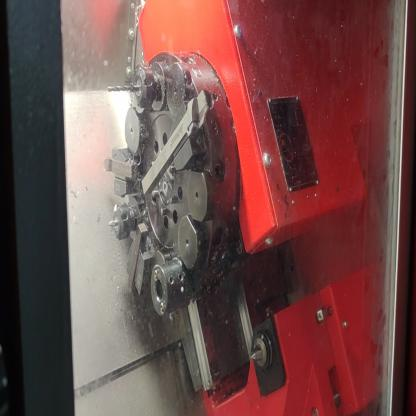bit: (150, 91, 209, 171), (124, 222, 153, 296), (103, 146, 138, 198)
